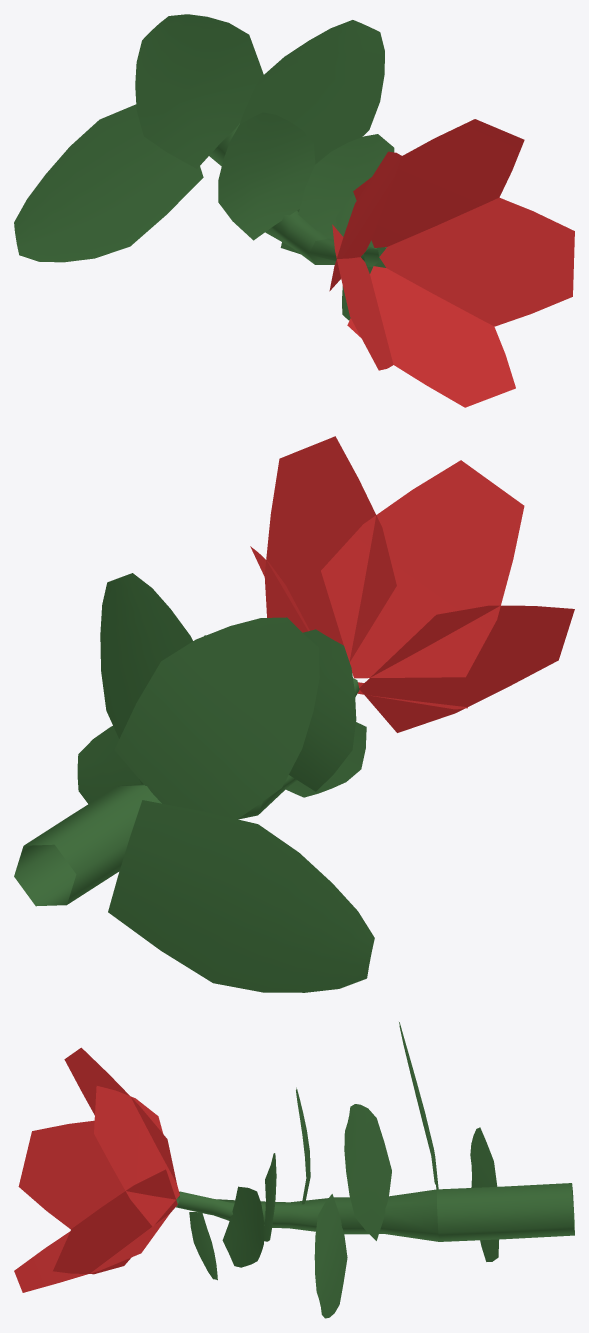
The model's file is Violen_mid.dae.
3 renders of one model, top to bottom at view 1: azimuth 30°, elevation 25°; view 2: azimuth 150°, elevation 25°; view 3: azimuth 270°, elevation 25°, orthographic. The views are drawn at different scales.
Visible parts, largest first — view 1: polySurface12, polySurface36, polySurface13, polySurface15, polySurface37, polySurface35, polySurface22, polySurface24, polySurface38, polySurface39, polySurface6, polySurface8; view 2: polySurface12, polySurface13, polySurface39, polySurface35, polySurface38, polySurface2, polySurface15, polySurface22, polySurface18, polySurface28; view 3: polySurface38, polySurface2, polySurface35, polySurface36, polySurface15, polySurface4, polySurface18, polySurface37, polySurface26, polySurface39, polySurface12, polySurface6 (+5 smaller).
Boxes of the visible parts, left/top/right/bottom form: polySurface12: left=14, top=104, right=203, bottom=262; polySurface36: left=379, top=197, right=574, bottom=326; polySurface13: left=135, top=14, right=263, bottom=168; polySurface15: left=239, top=20, right=384, bottom=164; polySurface37: left=347, top=266, right=515, bottom=407; polySurface35: left=353, top=119, right=524, bottom=247; polySurface22: left=218, top=112, right=315, bottom=240; polySurface24: left=298, top=134, right=394, bottom=240; polySurface38: left=332, top=224, right=393, bottom=370; polySurface39: left=329, top=151, right=401, bottom=291; polySurface6: left=265, top=210, right=328, bottom=264; polySurface8: left=308, top=238, right=379, bottom=267; polySurface12: left=108, top=800, right=374, bottom=992; polySurface13: left=114, top=617, right=319, bottom=818; polySurface39: left=321, top=460, right=524, bottom=678; polySurface35: left=264, top=436, right=396, bottom=661; polySurface38: left=359, top=605, right=574, bottom=732; polySurface2: left=14, top=785, right=160, bottom=906; polySurface15: left=100, top=573, right=192, bottom=783; polySurface22: left=289, top=629, right=356, bottom=791; polySurface18: left=77, top=726, right=141, bottom=803; polySurface28: left=286, top=722, right=366, bottom=797; polySurface38: left=18, top=1120, right=125, bottom=1229; polySurface2: left=437, top=1183, right=574, bottom=1241; polySurface35: left=94, top=1086, right=179, bottom=1226; polySurface36: left=53, top=1169, right=177, bottom=1274; polySurface15: left=344, top=1104, right=391, bottom=1240; polySurface4: left=334, top=1189, right=439, bottom=1241; polySurface18: left=314, top=1194, right=347, bottom=1318; polySurface37: left=14, top=1214, right=169, bottom=1292; polySurface26: left=222, top=1186, right=264, bottom=1267; polySurface39: left=64, top=1047, right=176, bottom=1183; polySurface12: left=470, top=1127, right=499, bottom=1261; polySurface6: left=260, top=1197, right=334, bottom=1231.
Bounding box in the file's own units: 6.21 × 4.8 × 10.33.
